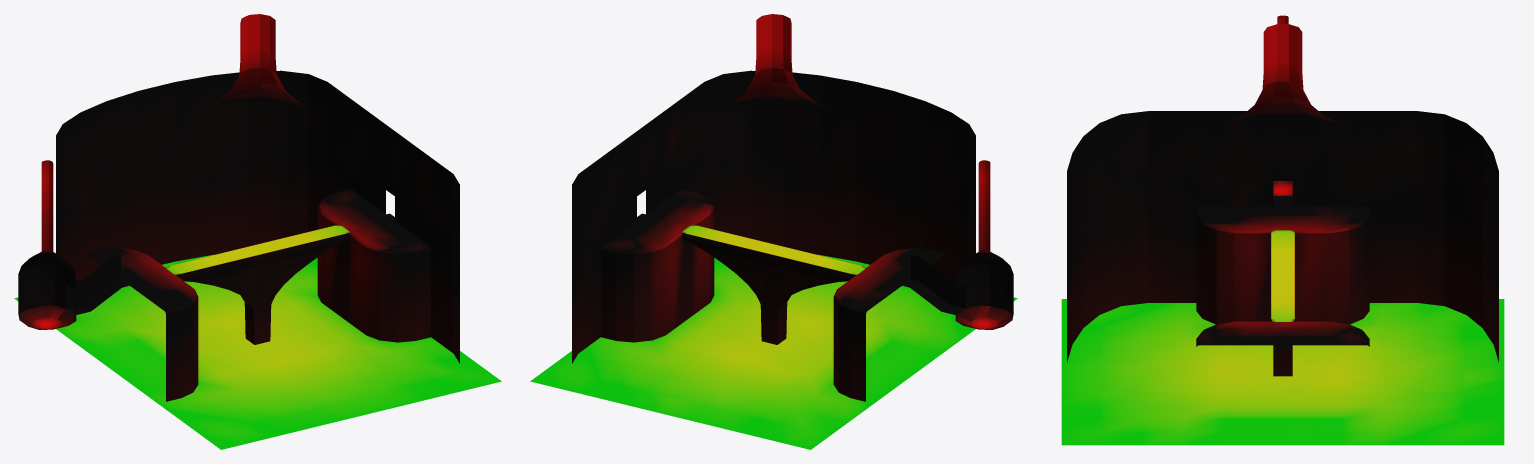
File: oubliette.glb
3 views of the same model, side by side, from view 1: azimuth 30°, elevation 25°; view 2: azimuth 150°, elevation 25°; view 3: azimuth 270°, elevation 25° (orthographic). The views are drawn at different scales.
Parts seen in each view (by area): view 1: Oubliette, Oubliette_Bridge, Oubliette_Ceiling; view 2: Oubliette, Oubliette_Bridge, Oubliette_Ceiling; view 3: Oubliette, Oubliette_Ceiling, Oubliette_Bridge.
Boxes of the visible parts, x1,y1,x2,y2 form: Oubliette: (14,70,501,449); Oubliette_Bridge: (166,225,349,344); Oubliette_Ceiling: (199,14,331,111); Oubliette: (530,70,1017,449); Oubliette_Bridge: (682,225,865,344); Oubliette_Ceiling: (700,14,832,111); Oubliette: (1061,15,1504,445); Oubliette_Ceiling: (1218,24,1347,127); Oubliette_Bridge: (1271,230,1294,376).
Bounding box in the file's own units: 53.4 × 40 × 49.2.
